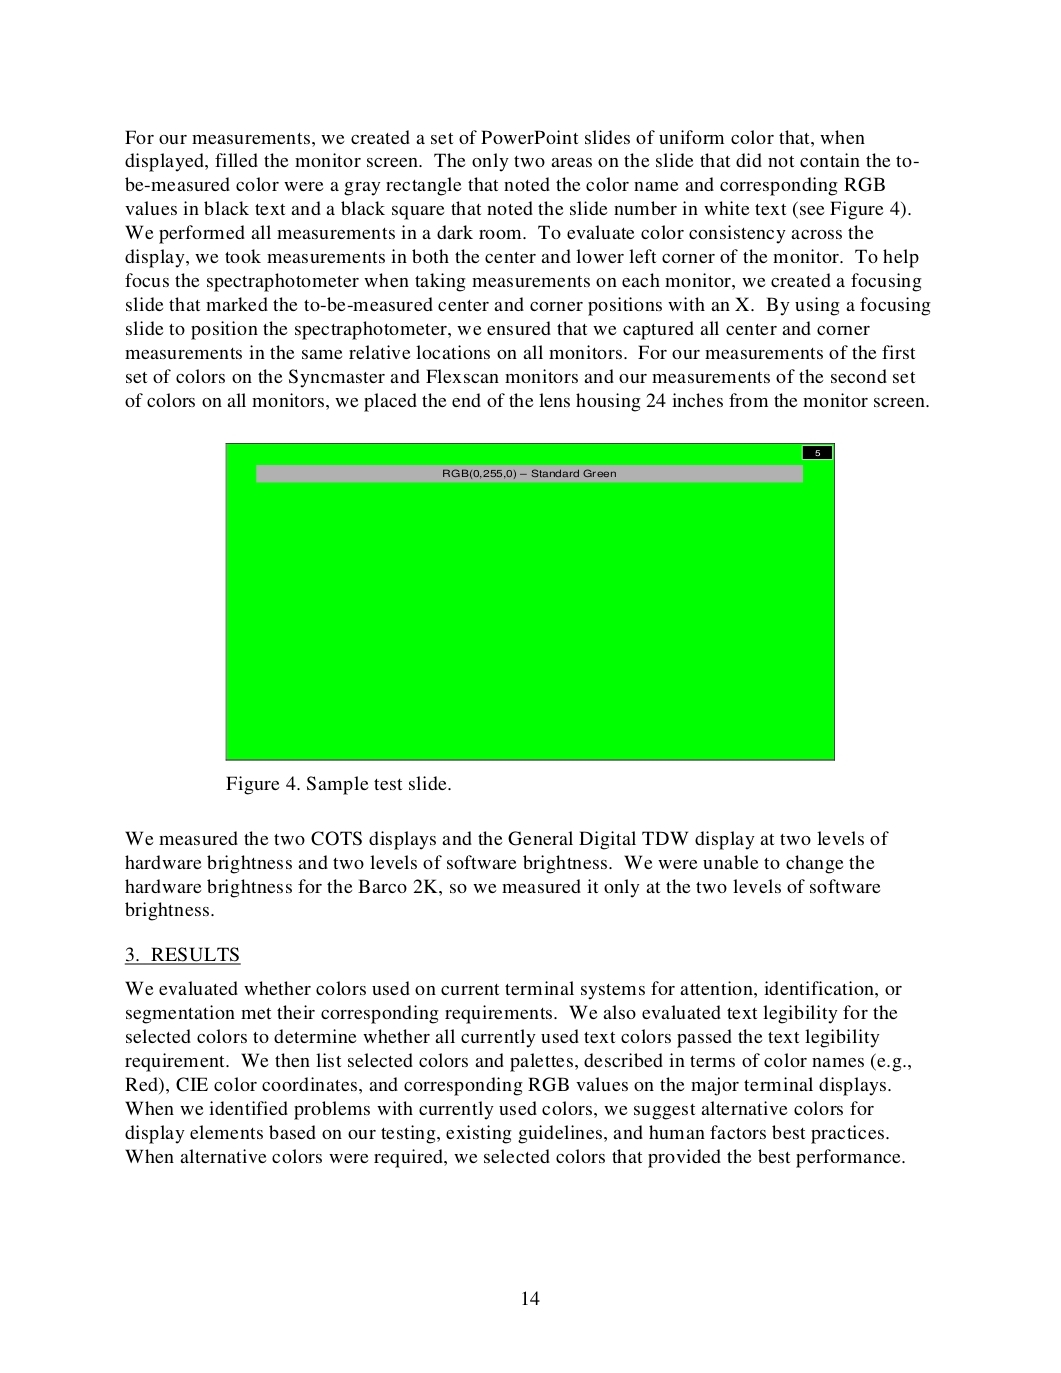figure: (225, 442, 834, 761)
